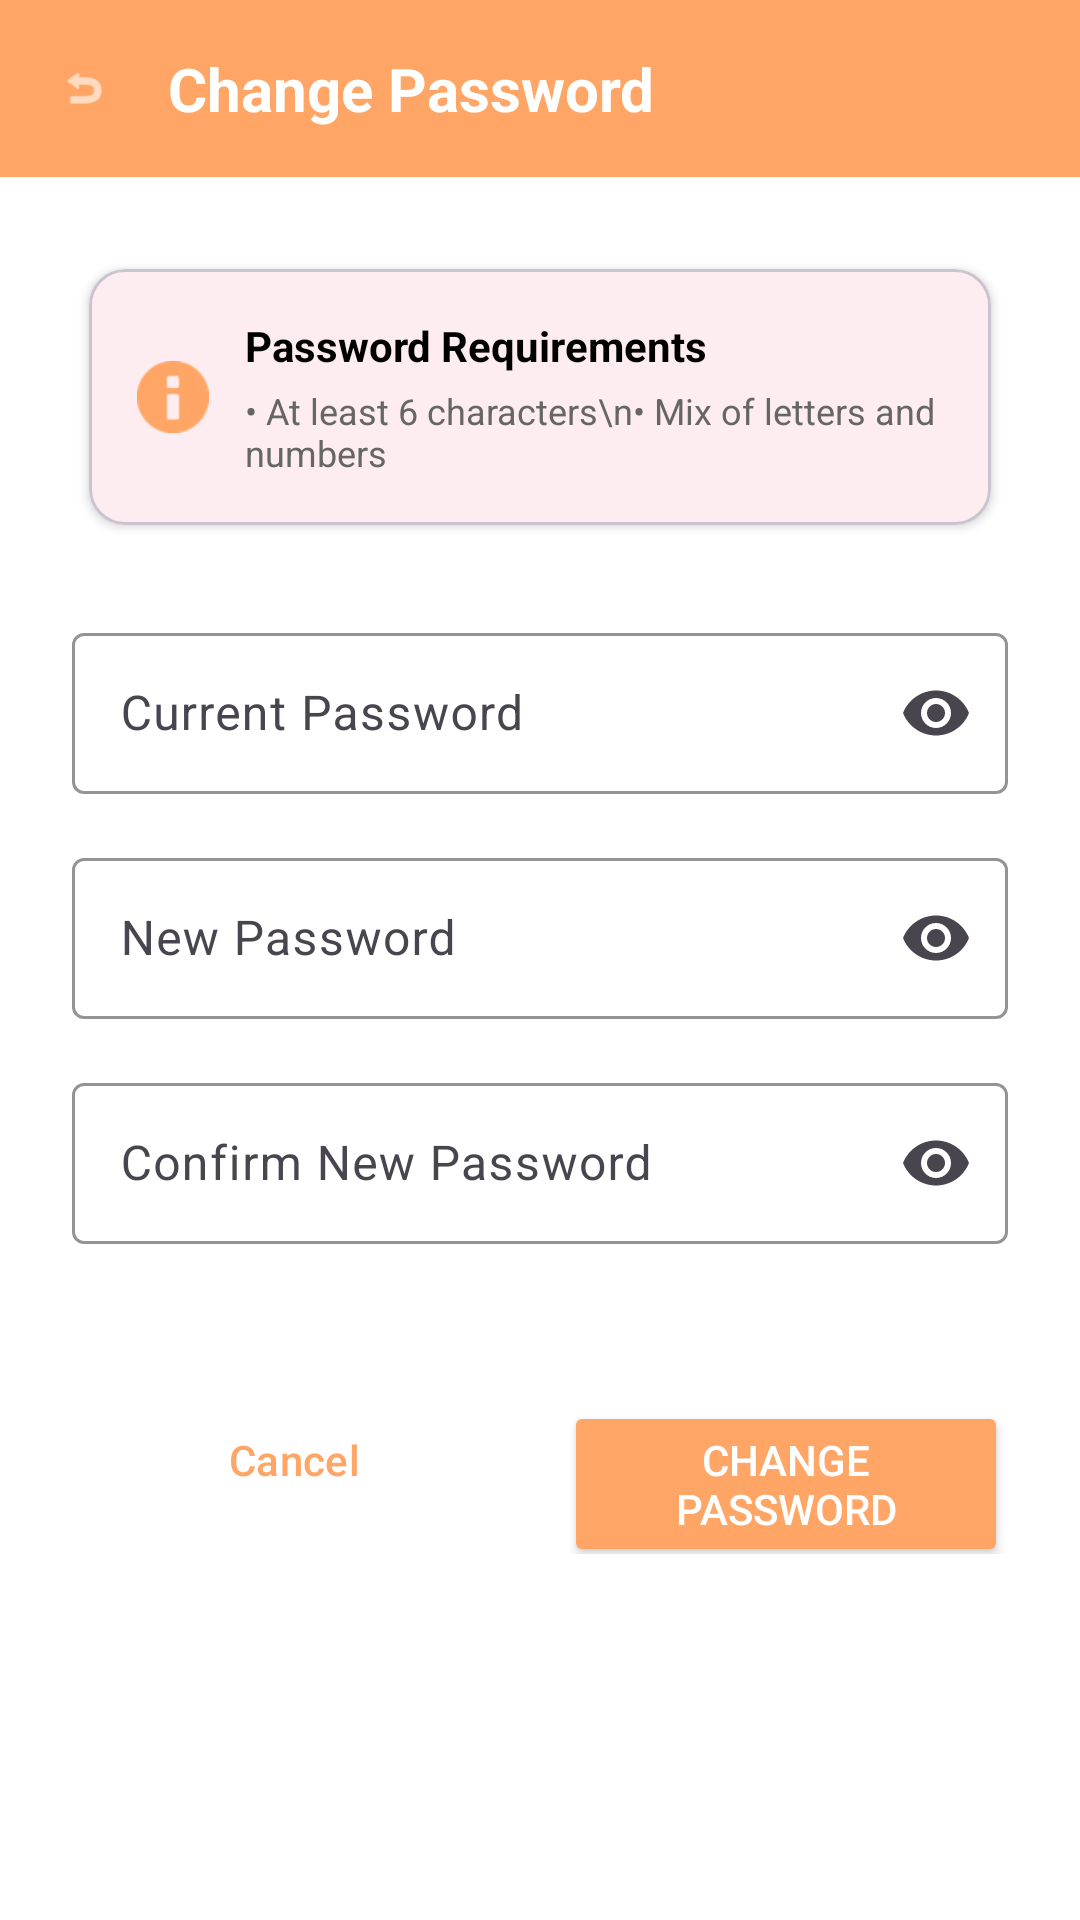

Named icons in this screenshot (1080*1920) and their bounding boxes, (x1, y1, x2, y2):
info: (137, 361, 209, 433)
revert: (67, 73, 102, 104)
